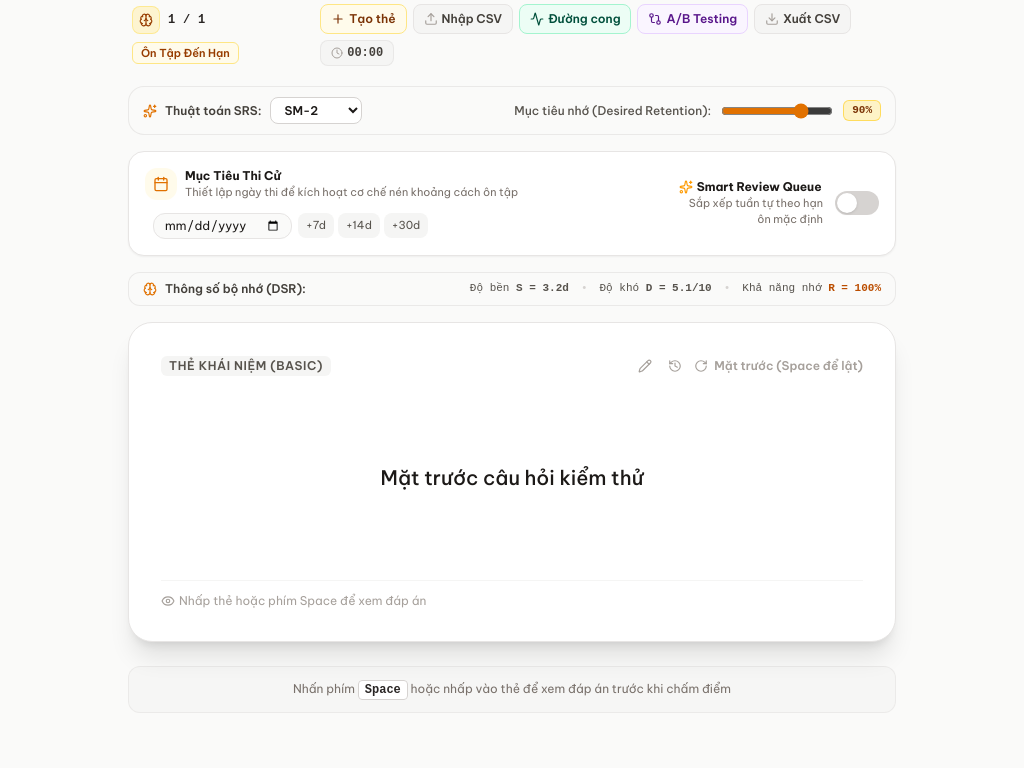
Test: Ca kiểm chứng số 2 — SM-2 Preview Parity Contract (UI Production Verification) › Fixture 1: Thẻ mới (new card) › 1.2 Nút Hard [2], Good [3], Easy [4] hiển thị khớp với thẻ mới
Click the text "Mặt trước câu hỏi kiểm thử". click: (512, 477)
box: [381, 465, 643, 490]
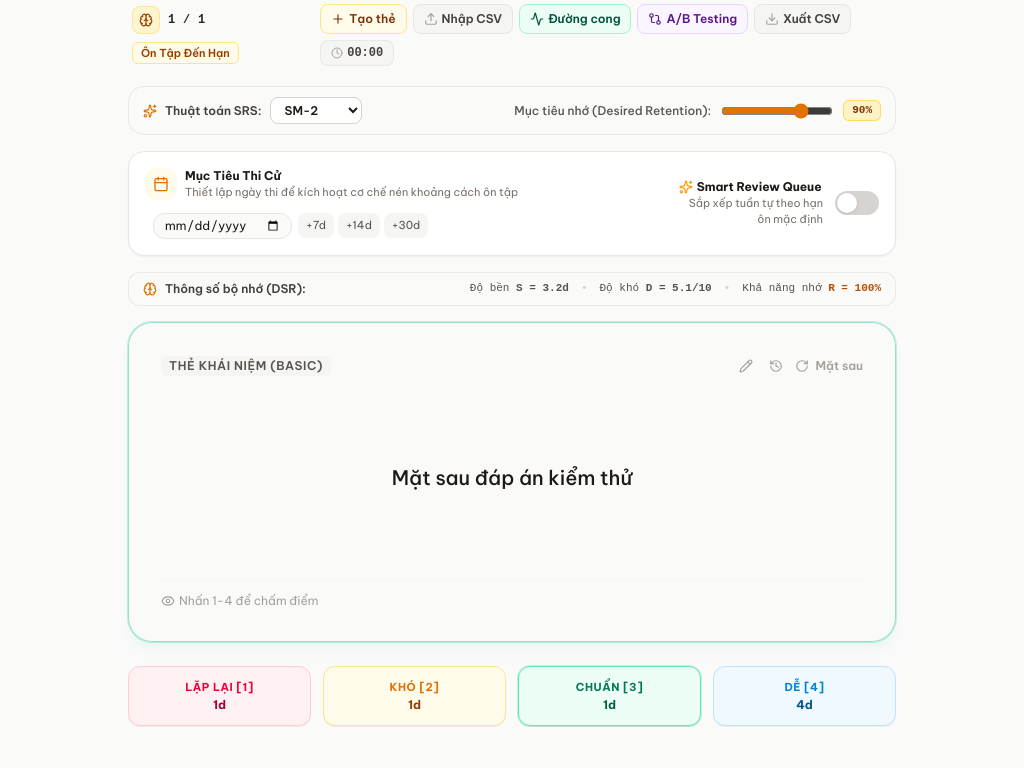
expect the text with test id "rating-interval-preview-2" reads "1d": met, box [408, 697, 421, 712]
expect the text with test id "rating-interval-preview-3" reads "1d": met, box [603, 697, 616, 712]
expect the text with test id "rating-interval-preview-4" reads "4d": met, box [796, 697, 813, 712]
